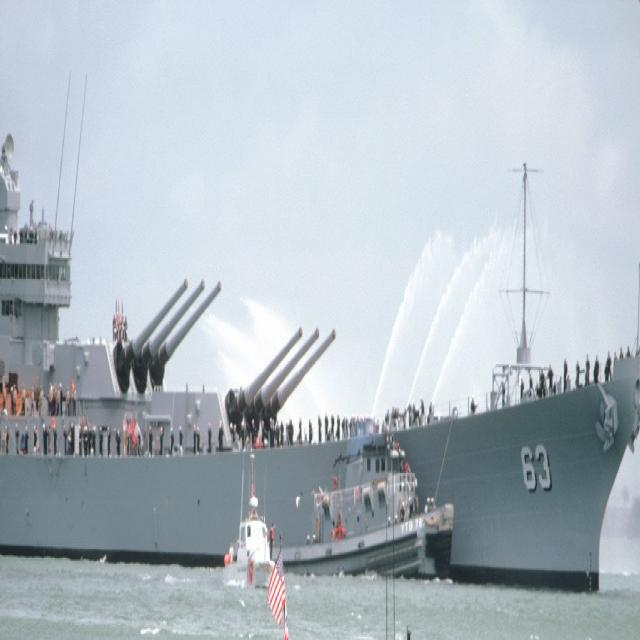houseboat: (209, 443, 289, 612)
navalvessels: (6, 136, 635, 615), (282, 421, 472, 567)
